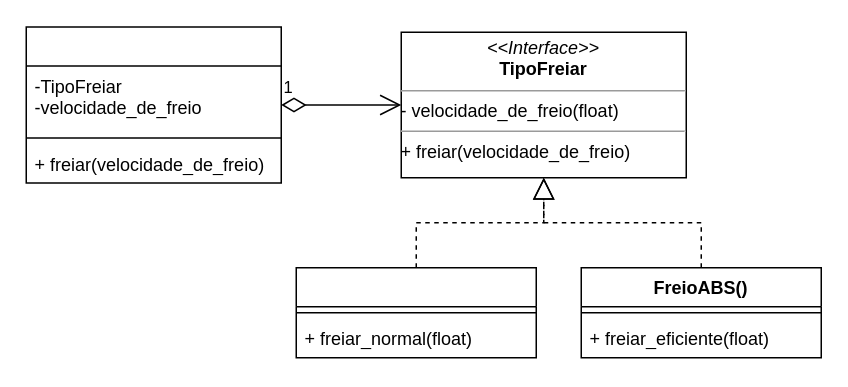
Some shapes in this 848 by 387 pixel diagram are drawn without their labels. Here are the shapes that lost their labels. From the top down, the box of each, then its label:
(25, 26, 281, 183): Carro
(295, 266, 536, 358): Freio
